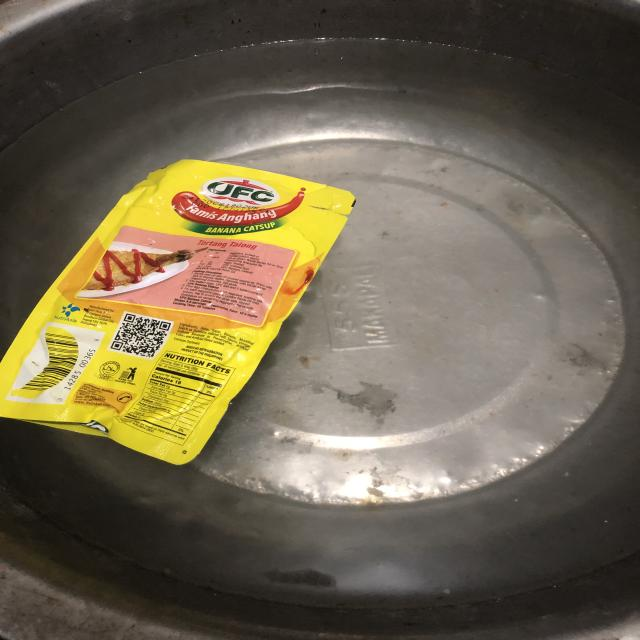Plastic Pouch: (0, 146, 362, 463)
